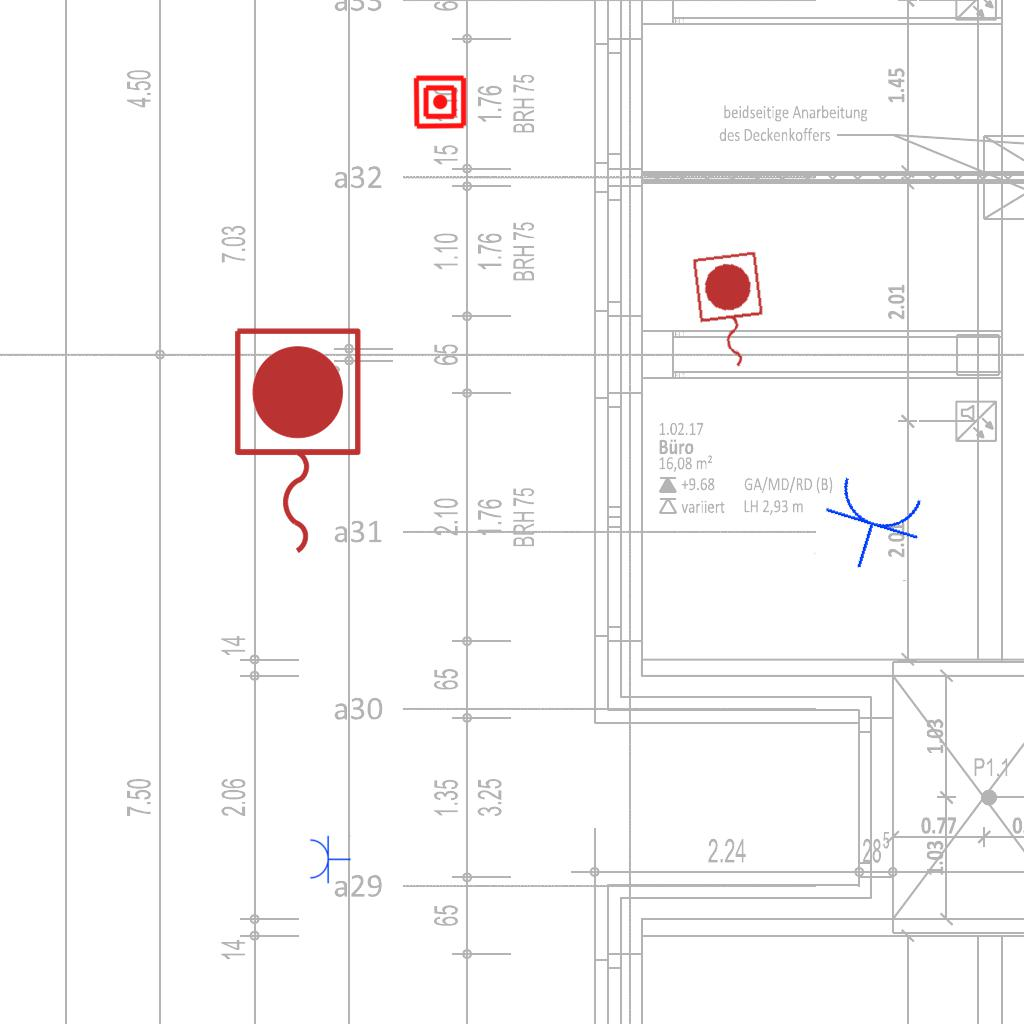NAM-Nichtautomatischer_Melder: (412, 74, 468, 130)
Schukosteckdose_einfach: (811, 470, 933, 583), (308, 834, 351, 884)
Zugtaster: (224, 320, 368, 564), (686, 247, 774, 377)
